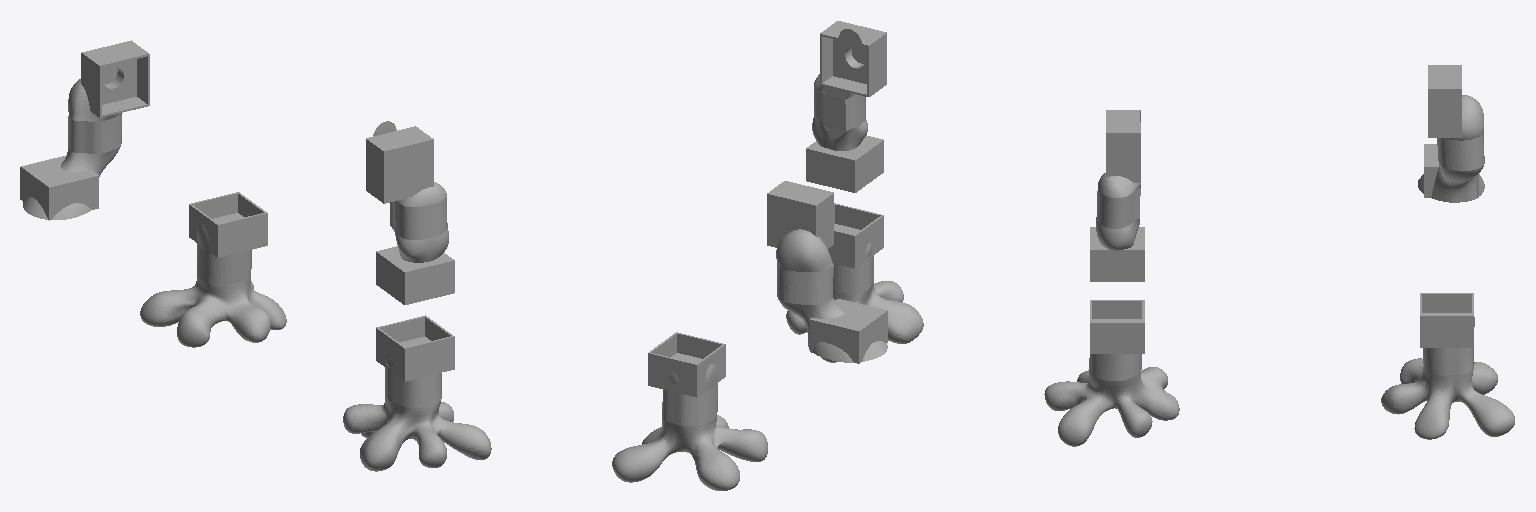
The robot description file, URDF, robot "FrogBot5_top-FrogBot5-z-6_bottom-FrogBot5-z-6":
<?xml version="1.0" ?>
<robot name="FrogBot5_top-FrogBot5-z-6_bottom-FrogBot5-z-6">

<material name="pla_5_percent_infill">
  <color rgba="0.700 0.700 0.700 1.000"/>
</material>

<link name="base_link">
  <inertial>
    <origin xyz="0 0 0" rpy="0 0 0"/>
    <mass value="1.4805118043364613"/>
    <inertia ixx="0.00519778244400068" iyy="0.011185972187213383" izz="0.012581059264896973" ixy="-0.0002102027550041139" iyz="-1.09064860282594e-05" ixz="-0.0008439426245005397"/>
  </inertial>
  <visual>
    <origin xyz="0 0 0" rpy="0 0 0"/>
    <geometry>
      <mesh filename="simple_meshes/base_link.stl" scale="0.001 0.001 0.001"/>
    </geometry>
    <material name="pla_5_percent_infill"/>
  </visual>
  <collision>
    <origin xyz="0 0 0" rpy="0 0 0"/>
    <geometry>
      <mesh filename="simple_meshes/base_link.stl" scale="0.001 0.001 0.001"/>
    </geometry>
  </collision>
</link>

<link name="body_1_0_1">
  <inertial>
    <origin xyz="-0.05492 -0.106321 -0.011198" rpy="0 0 0"/>
    <mass value="0.03884983260969606"/>
    <inertia ixx="4.170578301745194e-05" iyy="4.4962683225508566e-05" izz="1.2590825205717926e-05" ixy="-1.0565215714266035e-07" iyz="-2.019539742988309e-06" ixz="-1.2107108073044245e-06"/>
  </inertial>
  <visual>
    <origin xyz="-0.05492 -0.106321 -0.011198" rpy="0 0 0"/>
    <geometry>
      <mesh filename="simple_meshes/body_1_0_1.stl" scale="0.001 0.001 0.001"/>
    </geometry>
    <material name="pla_5_percent_infill"/>
  </visual>
  <collision>
    <origin xyz="-0.05492 -0.106321 -0.011198" rpy="0 0 0"/>
    <geometry>
      <mesh filename="simple_meshes/body_1_0_1.stl" scale="0.001 0.001 0.001"/>
    </geometry>
  </collision>
</link>

<link name="body_1_1_1">
  <inertial>
    <origin xyz="0.058377 -0.106321 -0.025493" rpy="0 0 0"/>
    <mass value="0.0640724490179146"/>
    <inertia ixx="7.964909327203029e-05" iyy="0.00010194311954723589" izz="4.02268873717351e-05" ixy="-2.1620908907479417e-06" iyz="-1.306376854506928e-06" ixz="-2.9478070887050846e-05"/>
  </inertial>
  <visual>
    <origin xyz="0.058377 -0.106321 -0.025493" rpy="0 0 0"/>
    <geometry>
      <mesh filename="simple_meshes/body_1_1_1.stl" scale="0.001 0.001 0.001"/>
    </geometry>
    <material name="pla_5_percent_infill"/>
  </visual>
  <collision>
    <origin xyz="0.058377 -0.106321 -0.025493" rpy="0 0 0"/>
    <geometry>
      <mesh filename="simple_meshes/body_1_1_1.stl" scale="0.001 0.001 0.001"/>
    </geometry>
  </collision>
</link>

<link name="body_1_2_1">
  <inertial>
    <origin xyz="-0.053934 0.106321 -0.032331" rpy="0 0 0"/>
    <mass value="0.05563842877598316"/>
    <inertia ixx="7.497002196064396e-05" iyy="8.095586345666046e-05" izz="1.909925730497514e-05" ixy="1.8461053509044416e-07" iyz="-1.5884370912450465e-07" ixz="8.151191103132949e-06"/>
  </inertial>
  <visual>
    <origin xyz="-0.053934 0.106321 -0.032331" rpy="0 0 0"/>
    <geometry>
      <mesh filename="simple_meshes/body_1_2_1.stl" scale="0.001 0.001 0.001"/>
    </geometry>
    <material name="pla_5_percent_infill"/>
  </visual>
  <collision>
    <origin xyz="-0.053934 0.106321 -0.032331" rpy="0 0 0"/>
    <geometry>
      <mesh filename="simple_meshes/body_1_2_1.stl" scale="0.001 0.001 0.001"/>
    </geometry>
  </collision>
</link>

<link name="body_1_3_1">
  <inertial>
    <origin xyz="0.057483 0.106321 -0.032919" rpy="0 0 0"/>
    <mass value="0.06200796672995031"/>
    <inertia ixx="8.203586392532521e-05" iyy="9.934747130677514e-05" izz="3.2338545722542704e-05" ixy="-5.828327555165106e-07" iyz="-2.3936281243236066e-06" ixz="-2.5396781439897788e-05"/>
  </inertial>
  <visual>
    <origin xyz="0.057483 0.106321 -0.032919" rpy="0 0 0"/>
    <geometry>
      <mesh filename="simple_meshes/body_1_3_1.stl" scale="0.001 0.001 0.001"/>
    </geometry>
    <material name="pla_5_percent_infill"/>
  </visual>
  <collision>
    <origin xyz="0.057483 0.106321 -0.032919" rpy="0 0 0"/>
    <geometry>
      <mesh filename="simple_meshes/body_1_3_1.stl" scale="0.001 0.001 0.001"/>
    </geometry>
  </collision>
</link>

<link name="body_2_0_1">
  <inertial>
    <origin xyz="-0.051784 -0.143449 0.100454" rpy="0 0 0"/>
    <mass value="0.08983033453324192"/>
    <inertia ixx="0.0001129028371719739" iyy="0.00012016448528999598" izz="9.669178012234768e-05" ixy="-4.565669640618016e-06" iyz="4.704396012114066e-06" ixz="-3.4372645983795714e-06"/>
  </inertial>
  <visual>
    <origin xyz="-0.051784 -0.143449 0.100454" rpy="0 0 0"/>
    <geometry>
      <mesh filename="simple_meshes/body_2_0_1.stl" scale="0.001 0.001 0.001"/>
    </geometry>
    <material name="pla_5_percent_infill"/>
  </visual>
  <collision>
    <origin xyz="-0.051784 -0.143449 0.100454" rpy="0 0 0"/>
    <geometry>
      <mesh filename="simple_meshes/body_2_0_1.stl" scale="0.001 0.001 0.001"/>
    </geometry>
  </collision>
</link>

<link name="body_2_1_1">
  <inertial>
    <origin xyz="0.108798 -0.147527 0.100454" rpy="0 0 0"/>
    <mass value="0.12520642099837706"/>
    <inertia ixx="9.813211103022572e-05" iyy="0.00012209439671824213" izz="9.724009692442786e-05" ixy="-2.3610485365048797e-06" iyz="3.873623748039054e-07" ixz="-8.361973607394491e-07"/>
  </inertial>
  <visual>
    <origin xyz="0.108798 -0.147527 0.100454" rpy="0 0 0"/>
    <geometry>
      <mesh filename="simple_meshes/body_2_1_1.stl" scale="0.001 0.001 0.001"/>
    </geometry>
    <material name="pla_5_percent_infill"/>
  </visual>
  <collision>
    <origin xyz="0.108798 -0.147527 0.100454" rpy="0 0 0"/>
    <geometry>
      <mesh filename="simple_meshes/body_2_1_1.stl" scale="0.001 0.001 0.001"/>
    </geometry>
  </collision>
</link>

<link name="body_2_2_1">
  <inertial>
    <origin xyz="-0.065031 0.147225 0.100454" rpy="0 0 0"/>
    <mass value="0.08944098053403188"/>
    <inertia ixx="0.00011087282553854522" iyy="0.00010926394341471794" izz="8.960666541283323e-05" ixy="6.04525247909968e-06" iyz="-3.7621290671315845e-06" ixz="-6.3944899855697575e-06"/>
  </inertial>
  <visual>
    <origin xyz="-0.065031 0.147225 0.100454" rpy="0 0 0"/>
    <geometry>
      <mesh filename="simple_meshes/body_2_2_1.stl" scale="0.001 0.001 0.001"/>
    </geometry>
    <material name="pla_5_percent_infill"/>
  </visual>
  <collision>
    <origin xyz="-0.065031 0.147225 0.100454" rpy="0 0 0"/>
    <geometry>
      <mesh filename="simple_meshes/body_2_2_1.stl" scale="0.001 0.001 0.001"/>
    </geometry>
  </collision>
</link>

<link name="body_2_3_1">
  <inertial>
    <origin xyz="0.101339 0.151086 0.100454" rpy="0 0 0"/>
    <mass value="0.13516619575576871"/>
    <inertia ixx="0.00012081311612868045" iyy="0.00015451642748556295" izz="0.0001090692719264751" ixy="1.1902656581294808e-06" iyz="-4.996255348883698e-06" ixz="6.998411627305405e-06"/>
  </inertial>
  <visual>
    <origin xyz="0.101339 0.151086 0.100454" rpy="0 0 0"/>
    <geometry>
      <mesh filename="simple_meshes/body_2_3_1.stl" scale="0.001 0.001 0.001"/>
    </geometry>
    <material name="pla_5_percent_infill"/>
  </visual>
  <collision>
    <origin xyz="0.101339 0.151086 0.100454" rpy="0 0 0"/>
    <geometry>
      <mesh filename="simple_meshes/body_2_3_1.stl" scale="0.001 0.001 0.001"/>
    </geometry>
  </collision>
</link>

<joint name="joint_1_0" type="revolute">
  <origin xyz="0.05492 0.106321 0.011198" rpy="0 0 0"/>
  <parent link="base_link"/>
  <child link="body_1_0_1"/>
  <axis xyz="0.0 1.0 0.0"/>
  <limit upper="1.2" lower="-1.2" effort="3.8" velocity="5.4"/>
</joint>
<transmission name="joint_1_0_tran">
  <type>transmission_interface/SimpleTransmission</type>
  <joint name="joint_1_0">
    <hardwareInterface>PositionJointInterface</hardwareInterface>
  </joint>
  <actuator name="joint_1_0_actr">
    <hardwareInterface>PositionJointInterface</hardwareInterface>
    <mechanicalReduction>1</mechanicalReduction>
  </actuator>
</transmission>

<joint name="joint_1_1" type="revolute">
  <origin xyz="-0.058377 0.106321 0.025493" rpy="0 0 0"/>
  <parent link="base_link"/>
  <child link="body_1_1_1"/>
  <axis xyz="0.0 1.0 0.0"/>
  <limit upper="1.2" lower="-1.2" effort="3.8" velocity="5.4"/>
</joint>
<transmission name="joint_1_1_tran">
  <type>transmission_interface/SimpleTransmission</type>
  <joint name="joint_1_1">
    <hardwareInterface>PositionJointInterface</hardwareInterface>
  </joint>
  <actuator name="joint_1_1_actr">
    <hardwareInterface>PositionJointInterface</hardwareInterface>
    <mechanicalReduction>1</mechanicalReduction>
  </actuator>
</transmission>

<joint name="joint_1_2" type="revolute">
  <origin xyz="0.053934 -0.106321 0.032331" rpy="0 0 0"/>
  <parent link="base_link"/>
  <child link="body_1_2_1"/>
  <axis xyz="0.0 1.0 0.0"/>
  <limit upper="1.2" lower="-1.2" effort="3.8" velocity="5.4"/>
</joint>
<transmission name="joint_1_2_tran">
  <type>transmission_interface/SimpleTransmission</type>
  <joint name="joint_1_2">
    <hardwareInterface>PositionJointInterface</hardwareInterface>
  </joint>
  <actuator name="joint_1_2_actr">
    <hardwareInterface>PositionJointInterface</hardwareInterface>
    <mechanicalReduction>1</mechanicalReduction>
  </actuator>
</transmission>

<joint name="joint_1_3" type="revolute">
  <origin xyz="-0.057483 -0.106321 0.032919" rpy="0 0 0"/>
  <parent link="base_link"/>
  <child link="body_1_3_1"/>
  <axis xyz="0.0 1.0 0.0"/>
  <limit upper="1.2" lower="-1.2" effort="3.8" velocity="5.4"/>
</joint>
<transmission name="joint_1_3_tran">
  <type>transmission_interface/SimpleTransmission</type>
  <joint name="joint_1_3">
    <hardwareInterface>PositionJointInterface</hardwareInterface>
  </joint>
  <actuator name="joint_1_3_actr">
    <hardwareInterface>PositionJointInterface</hardwareInterface>
    <mechanicalReduction>1</mechanicalReduction>
  </actuator>
</transmission>

<joint name="joint_2_0" type="revolute">
  <origin xyz="-0.003136 0.037128 -0.111652" rpy="0 0 0"/>
  <parent link="body_1_0_1"/>
  <child link="body_2_0_1"/>
  <axis xyz="0.0 0.0 1.0"/>
  <limit upper="1.2" lower="-1.2" effort="3.8" velocity="5.4"/>
</joint>
<transmission name="joint_2_0_tran">
  <type>transmission_interface/SimpleTransmission</type>
  <joint name="joint_2_0">
    <hardwareInterface>PositionJointInterface</hardwareInterface>
  </joint>
  <actuator name="joint_2_0_actr">
    <hardwareInterface>PositionJointInterface</hardwareInterface>
    <mechanicalReduction>1</mechanicalReduction>
  </actuator>
</transmission>

<joint name="joint_2_1" type="revolute">
  <origin xyz="-0.050421 0.041206 -0.125947" rpy="0 0 0"/>
  <parent link="body_1_1_1"/>
  <child link="body_2_1_1"/>
  <axis xyz="0.0 0.0 1.0"/>
  <limit upper="1.2" lower="-1.2" effort="3.8" velocity="5.4"/>
</joint>
<transmission name="joint_2_1_tran">
  <type>transmission_interface/SimpleTransmission</type>
  <joint name="joint_2_1">
    <hardwareInterface>PositionJointInterface</hardwareInterface>
  </joint>
  <actuator name="joint_2_1_actr">
    <hardwareInterface>PositionJointInterface</hardwareInterface>
    <mechanicalReduction>1</mechanicalReduction>
  </actuator>
</transmission>

<joint name="joint_2_2" type="revolute">
  <origin xyz="0.011097 -0.040904 -0.132785" rpy="0 0 0"/>
  <parent link="body_1_2_1"/>
  <child link="body_2_2_1"/>
  <axis xyz="0.0 0.0 1.0"/>
  <limit upper="1.2" lower="-1.2" effort="3.8" velocity="5.4"/>
</joint>
<transmission name="joint_2_2_tran">
  <type>transmission_interface/SimpleTransmission</type>
  <joint name="joint_2_2">
    <hardwareInterface>PositionJointInterface</hardwareInterface>
  </joint>
  <actuator name="joint_2_2_actr">
    <hardwareInterface>PositionJointInterface</hardwareInterface>
    <mechanicalReduction>1</mechanicalReduction>
  </actuator>
</transmission>

<joint name="joint_2_3" type="revolute">
  <origin xyz="-0.043856 -0.044765 -0.133373" rpy="0 0 0"/>
  <parent link="body_1_3_1"/>
  <child link="body_2_3_1"/>
  <axis xyz="0.0 0.0 1.0"/>
  <limit upper="1.2" lower="-1.2" effort="3.8" velocity="5.4"/>
</joint>
<transmission name="joint_2_3_tran">
  <type>transmission_interface/SimpleTransmission</type>
  <joint name="joint_2_3">
    <hardwareInterface>PositionJointInterface</hardwareInterface>
  </joint>
  <actuator name="joint_2_3_actr">
    <hardwareInterface>PositionJointInterface</hardwareInterface>
    <mechanicalReduction>1</mechanicalReduction>
  </actuator>
</transmission>

</robot>

--- What the picture shows (computed from the rendered views, not written in the file) ---
3 views of the same robot in one strip: view 1: azimuth 30°, elevation 25°; view 2: azimuth 150°, elevation 25°; view 3: azimuth 270°, elevation 25° (orthographic).
Robot: FrogBot5_top-FrogBot5-z-6_bottom-FrogBot5-z-6 — 9 links, 8 joints (8 revolute); root link base_link; default pose: all joints at 0.
Links seen in each view (by area): view 1: body_2_2_1, body_2_0_1, body_1_1_1, body_1_2_1; view 2: body_2_0_1, body_1_1_1, body_1_2_1, body_2_2_1; view 3: body_2_2_1, body_2_0_1, body_1_2_1, body_1_1_1.
Link boxes in pixels (x1,y1,x2,y2): body_2_2_1: [343, 315, 491, 471]; body_2_0_1: [140, 192, 286, 347]; body_1_1_1: [20, 40, 149, 220]; body_1_2_1: [366, 121, 454, 304]; body_2_0_1: [612, 332, 767, 490]; body_1_1_1: [767, 181, 887, 363]; body_1_2_1: [806, 21, 886, 192]; body_2_2_1: [786, 203, 923, 362]; body_2_2_1: [1044, 300, 1179, 446]; body_2_0_1: [1381, 293, 1514, 439]; body_1_2_1: [1090, 110, 1144, 281]; body_1_1_1: [1418, 65, 1484, 202].
Bounding box of the posed robot: 0.2569 × 0.415 × 0.3026 m (x, y, z).
Meshes: 9 distinct files referenced, 4 mesh visuals loaded (4 binary STL); not drawn: 5 (reference not matched to a file when rendering).